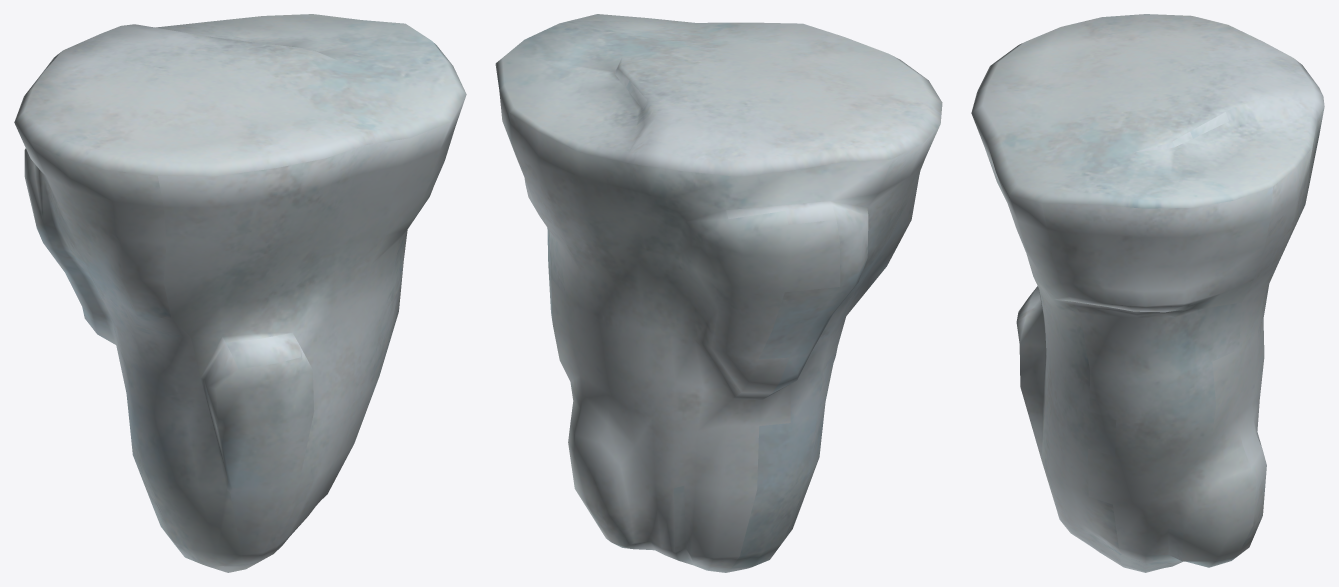
The model's file is P_RockDesert_CliffHalf03.obj.
3 renders of one model, left to right at view 1: azimuth 30°, elevation 25°; view 2: azimuth 150°, elevation 25°; view 3: azimuth 270°, elevation 25°, orthographic. The views are drawn at different scales.
Size of the model in its own units: 47.16 by 54.86 by 36.76.
